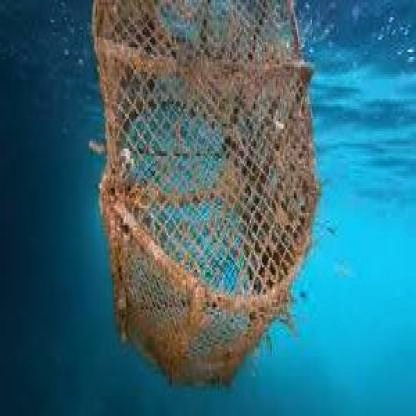net: (93, 2, 316, 392)
